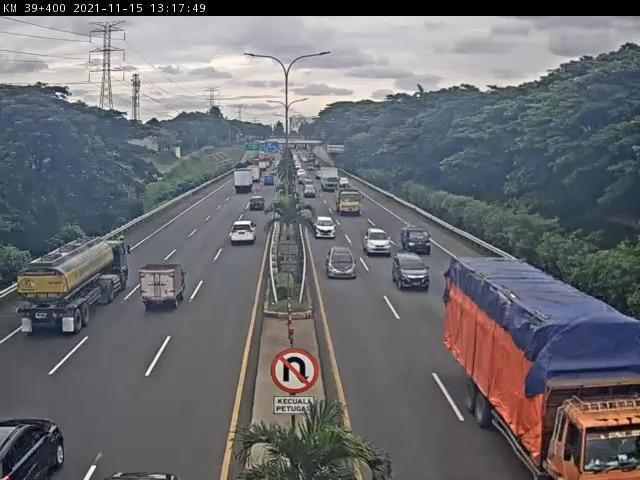car: (142, 263, 189, 309), (395, 255, 431, 292), (326, 246, 358, 281), (402, 226, 433, 256), (363, 229, 392, 258), (231, 221, 259, 246), (316, 218, 338, 241), (249, 196, 267, 214)
truck: (443, 255, 640, 480), (18, 240, 130, 339), (336, 189, 366, 218)
